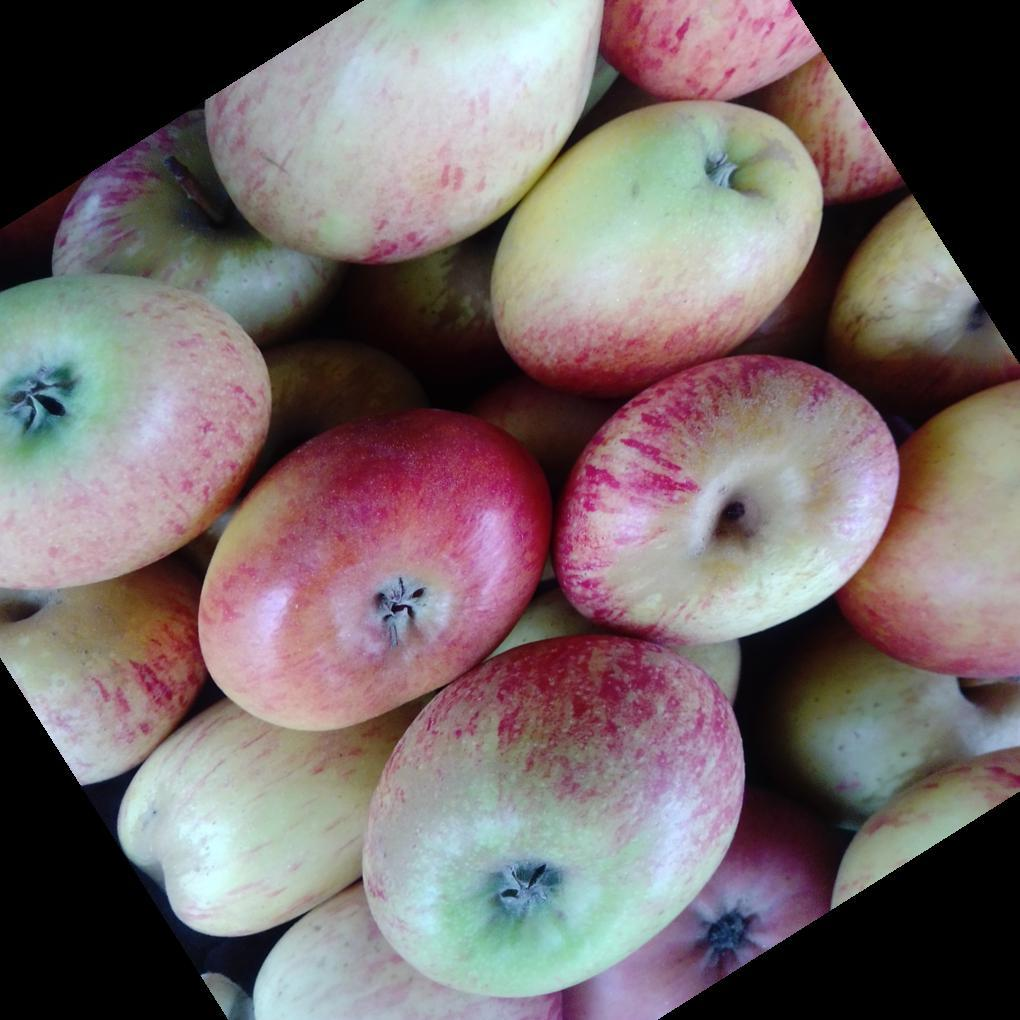FreshGuava: (6, 13, 1020, 1020)
